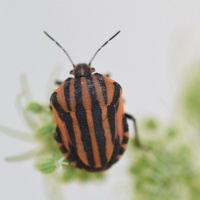insect: (44, 31, 139, 170)
